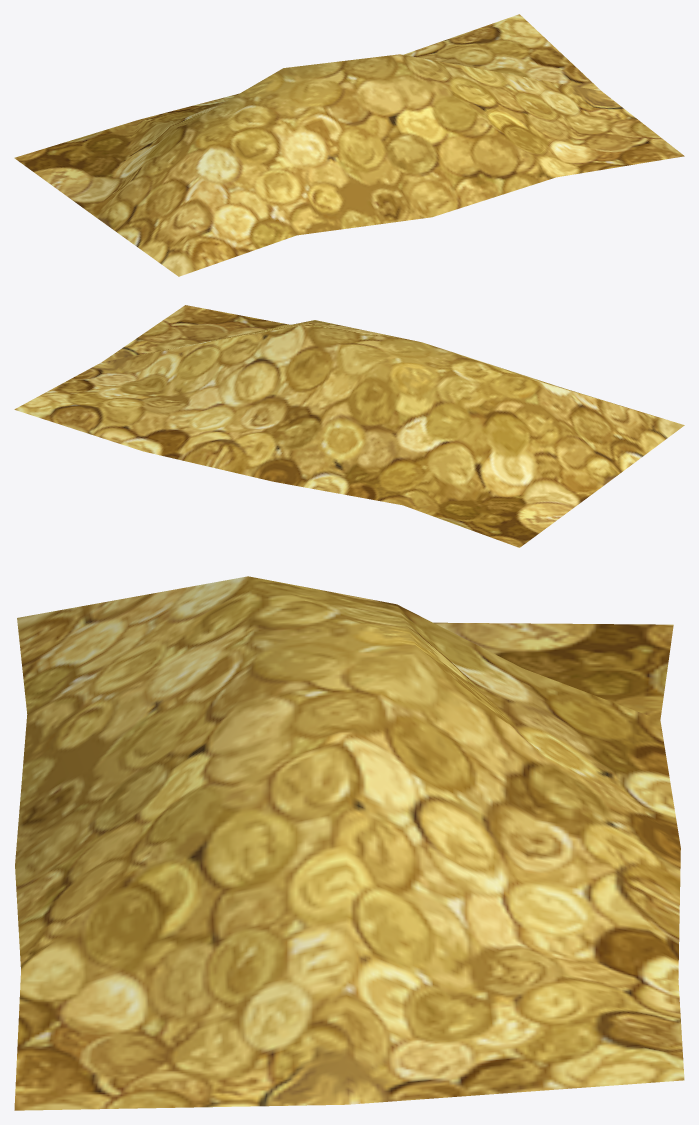
File: ChestALootA.FBX
3 views of the same model, one above another, from view 1: azimuth 30°, elevation 25°; view 2: azimuth 150°, elevation 25°; view 3: azimuth 270°, elevation 25° (orthographic). The views are drawn at different scales.
Visible parts, largest first — view 1: chestALootA; view 2: chestALootA; view 3: chestALootA.
Part boxes in pixels (bbox=[...]): chestALootA: bbox=[14, 14, 684, 276]; chestALootA: bbox=[14, 305, 684, 547]; chestALootA: bbox=[14, 576, 684, 1110].
Size of the model in its own units: 99.34 by 16.81 by 57.18.
